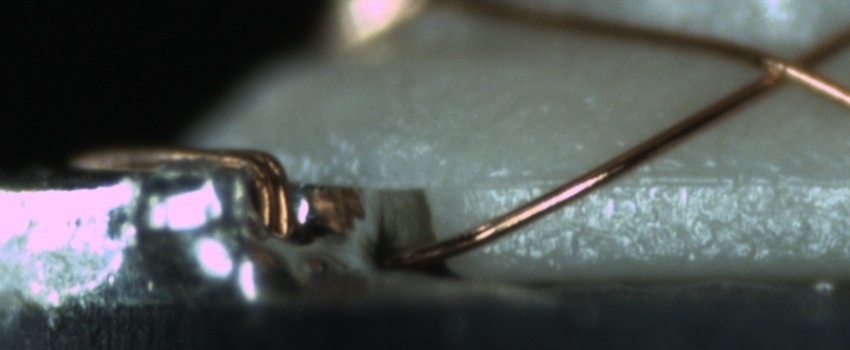CL: (743, 37, 840, 100)
DL: (462, 152, 849, 213)
TE: (63, 145, 303, 241)
